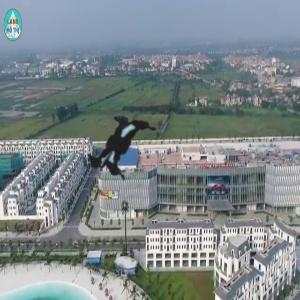drone: (16, 45, 222, 251)
